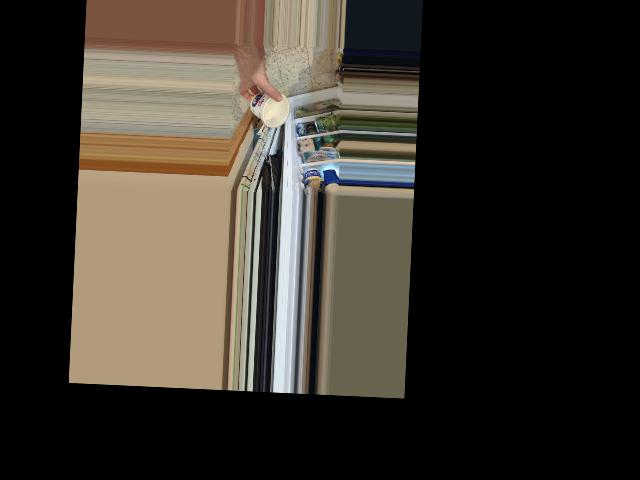cotage: (244, 86, 290, 129)
